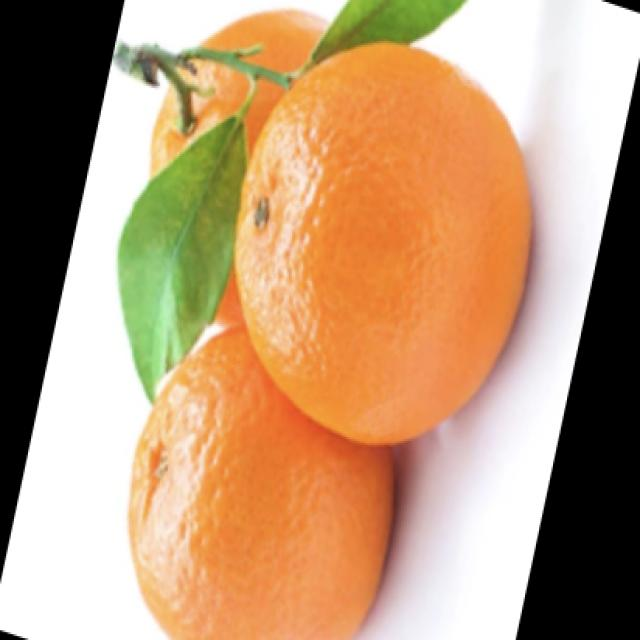fresh: (99, 7, 550, 640)
